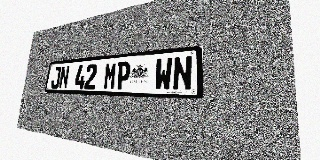2: (84, 64, 98, 89)
4: (74, 64, 87, 89)
J: (50, 67, 61, 89)
M: (103, 62, 118, 90)
N: (172, 56, 193, 91), (58, 66, 70, 89)
P: (116, 61, 131, 90)
W: (154, 57, 173, 90)
